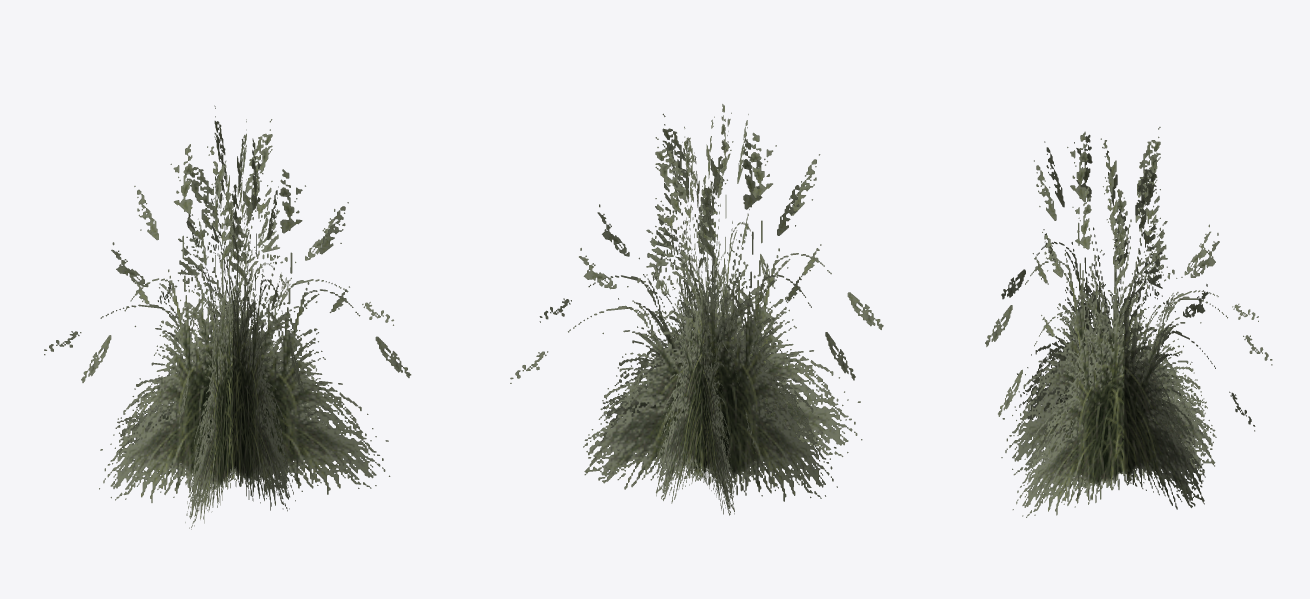
File: CornMaze.fbx
3 renders of one model, left to right at view 1: azimuth 30°, elevation 25°; view 2: azimuth 150°, elevation 25°; view 3: azimuth 270°, elevation 25°, orthographic. The views are drawn at different scales.
Parts seen in each view (by area): view 1: fluffyWeeds; view 2: fluffyWeeds; view 3: fluffyWeeds.
Part boxes in pixels (<box>): fluffyWeeds: <box>44,105,411,529</box>; fluffyWeeds: <box>510,104,883,515</box>; fluffyWeeds: <box>985,127,1272,517</box>.
Size of the model in its own units: 5.72 by 4.62 by 6.
1 material, 1 textured.
